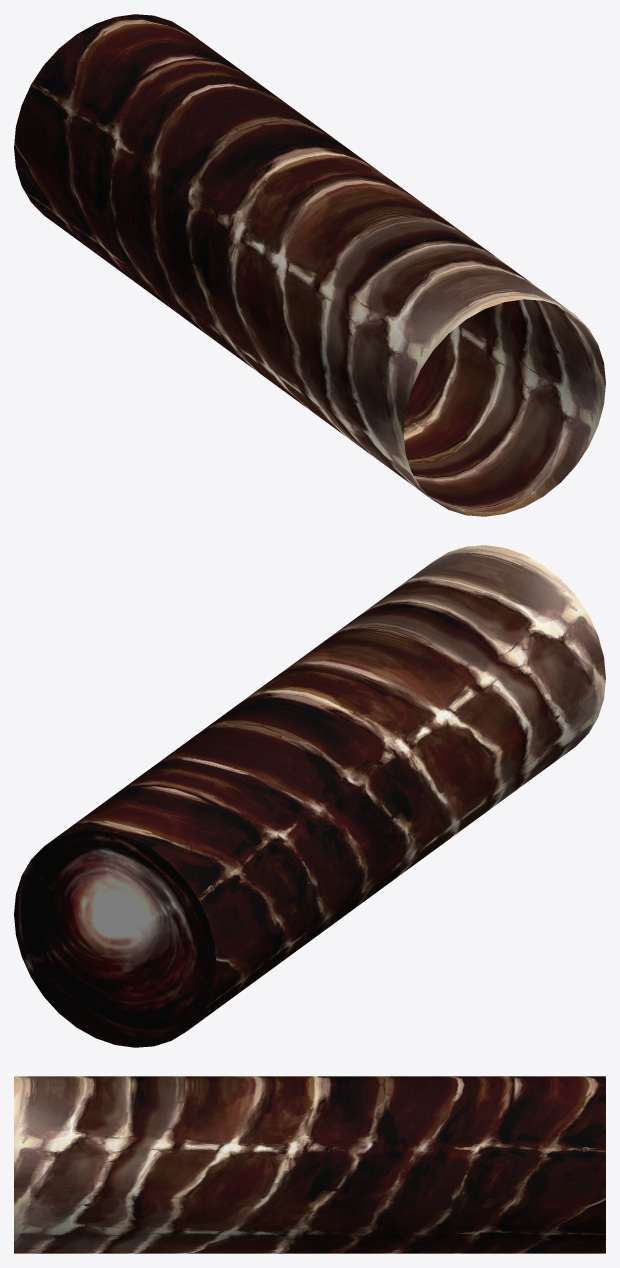
3 renders of one model, top to bottom at view 1: azimuth 30°, elevation 25°; view 2: azimuth 150°, elevation 25°; view 3: azimuth 270°, elevation 25°, orthographic. The views are drawn at different scales.
Parts seen in each view (by area): view 1: Cylinder001; view 2: Cylinder001; view 3: Cylinder001.
Part boxes in pixels (left/top/right/bottom): Cylinder001: left=14, top=14, right=605, bottom=516; Cylinder001: left=14, top=545, right=605, bottom=1047; Cylinder001: left=14, top=1076, right=605, bottom=1253.
Bounding box in the file's own units: 60 × 60 × 200.
Materials: 2 (2 with a texture image).
